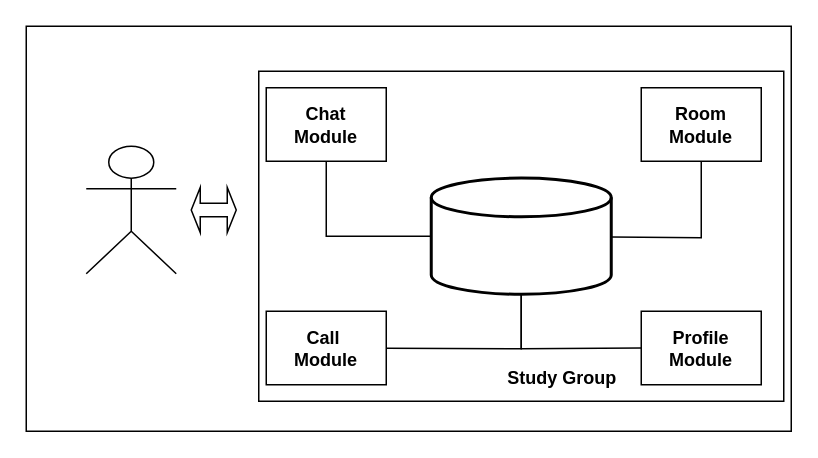
This 818x458 diagram has some shape labels left out. Here are the shapes that lost their labels. From the top down, the centre of each, then its label:
At point (130, 209): "Users".
At point (520, 235): "Database".
